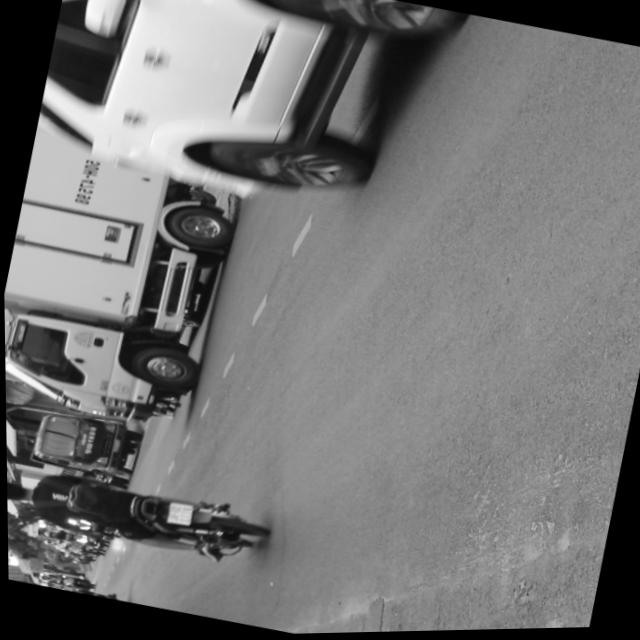licenseplate: (5, 446, 268, 575)
motorcyclist: (5, 472, 30, 505)
nohelmet: (162, 500, 191, 527)
